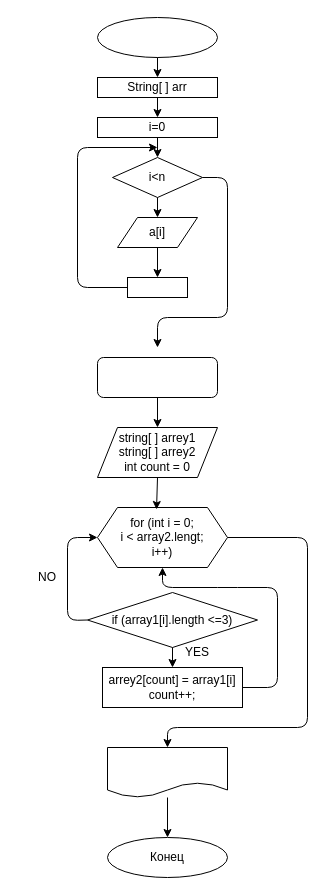
Image size: 333x895. Some labels were removed from this diagram. The centre of each missing label's shape, as x and y in pixels:
i=i+1: the point at 157,287
PrintArray(array2): the point at 167,772
SecondArr: the point at 157,377
Начало: the point at 157,37
